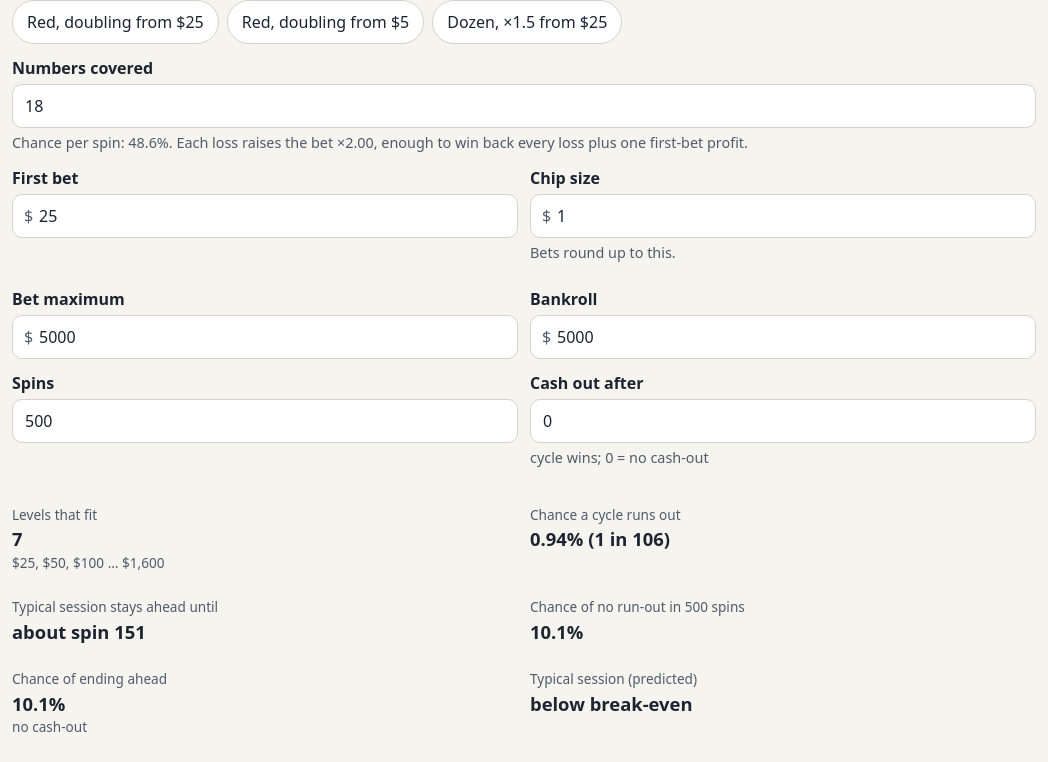
LadderCalculator › flags text that is not money
This screenshot has width=1048, height=762.
Replace the text in the field labelled "Bankroll" with "abc" at [783, 337], box [530,315,1036,359]
(page scrolled)
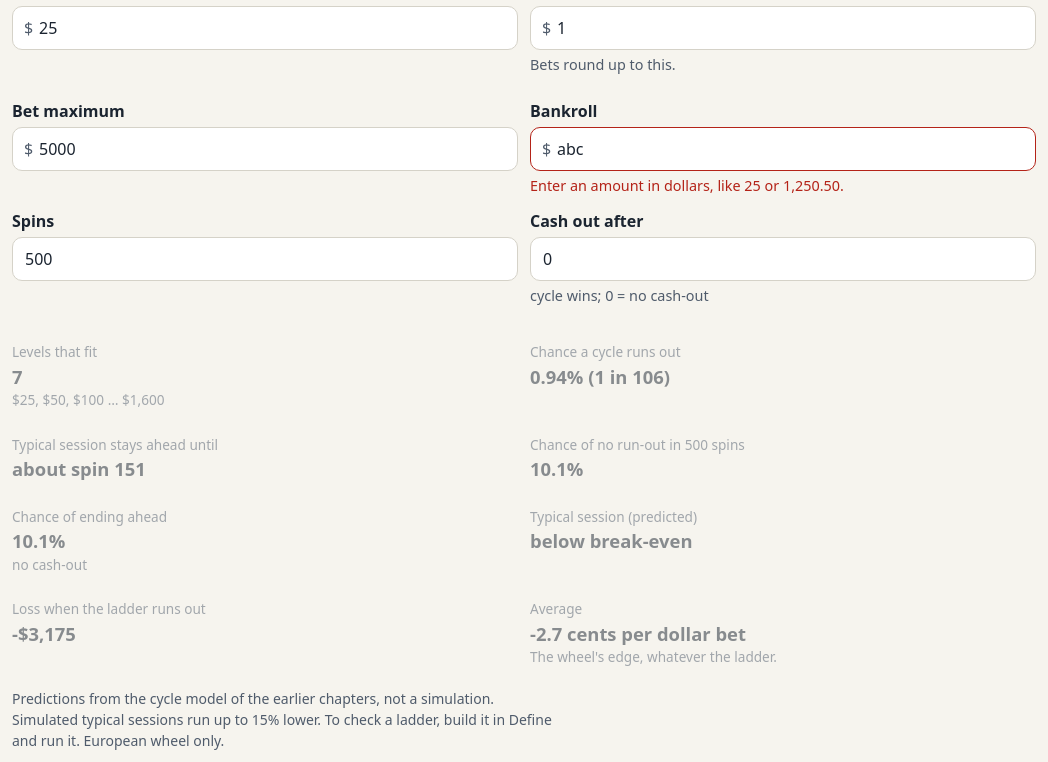
expect the message with id "calc-bankroll-err" shows "Enter an amount": met, box [530,176,844,195]
